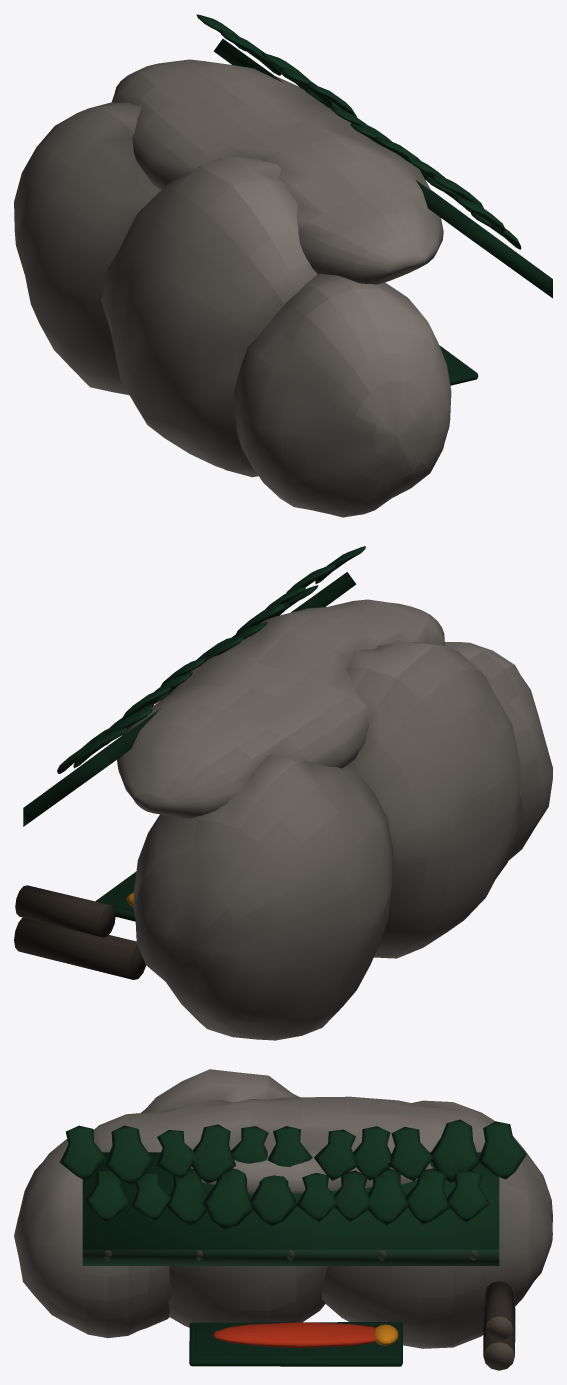
File: RockOverhang_section.glb
The picture shows the model from 3 angles, top to bottom: view 1: azimuth 30°, elevation 25°; view 2: azimuth 150°, elevation 25°; view 3: azimuth 270°, elevation 25°; orthographic projection. The views are drawn at different scales.
Visible parts, largest first — view 1: sec_rock, sec_thatch, sec_roofmat; view 2: sec_rock, sec_endlog, sec_thatch, sec_roofmat, sec_endlog2; view 3: sec_rock, sec_thatch, sec_roofmat, sec_bag, sec_bed, sec_bedthick, sec_endlog2, sec_endlog, sec_pillow.
Boxes of the visible parts, left/top/right/bottom form: sec_rock: left=14, top=59, right=451, bottom=517; sec_thatch: left=196, top=14, right=521, bottom=249; sec_roofmat: left=213, top=38, right=552, bottom=298; sec_rock: left=117, top=599, right=552, bottom=1040; sec_endlog: left=14, top=917, right=145, bottom=979; sec_thatch: left=57, top=546, right=365, bottom=773; sec_roofmat: left=23, top=572, right=356, bottom=826; sec_endlog2: left=15, top=885, right=115, bottom=937; sec_rock: left=14, top=1069, right=552, bottom=1348; sec_thatch: left=59, top=1119, right=526, bottom=1229; sec_roofmat: left=82, top=1152, right=499, bottom=1265; sec_bag: left=212, top=1322, right=375, bottom=1348; sec_bed: left=195, top=1324, right=396, bottom=1357; sec_bedthick: left=189, top=1322, right=402, bottom=1366; sec_endlog2: left=485, top=1281, right=513, bottom=1341; sec_endlog: left=483, top=1302, right=515, bottom=1370; sec_pillow: left=375, top=1324, right=398, bottom=1345.
Size of the model in its own units: 3.1 by 2.81 by 5.3.
